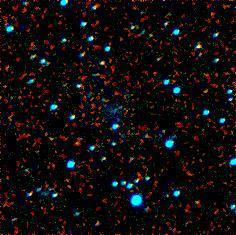star: (62, 127, 92, 157)
